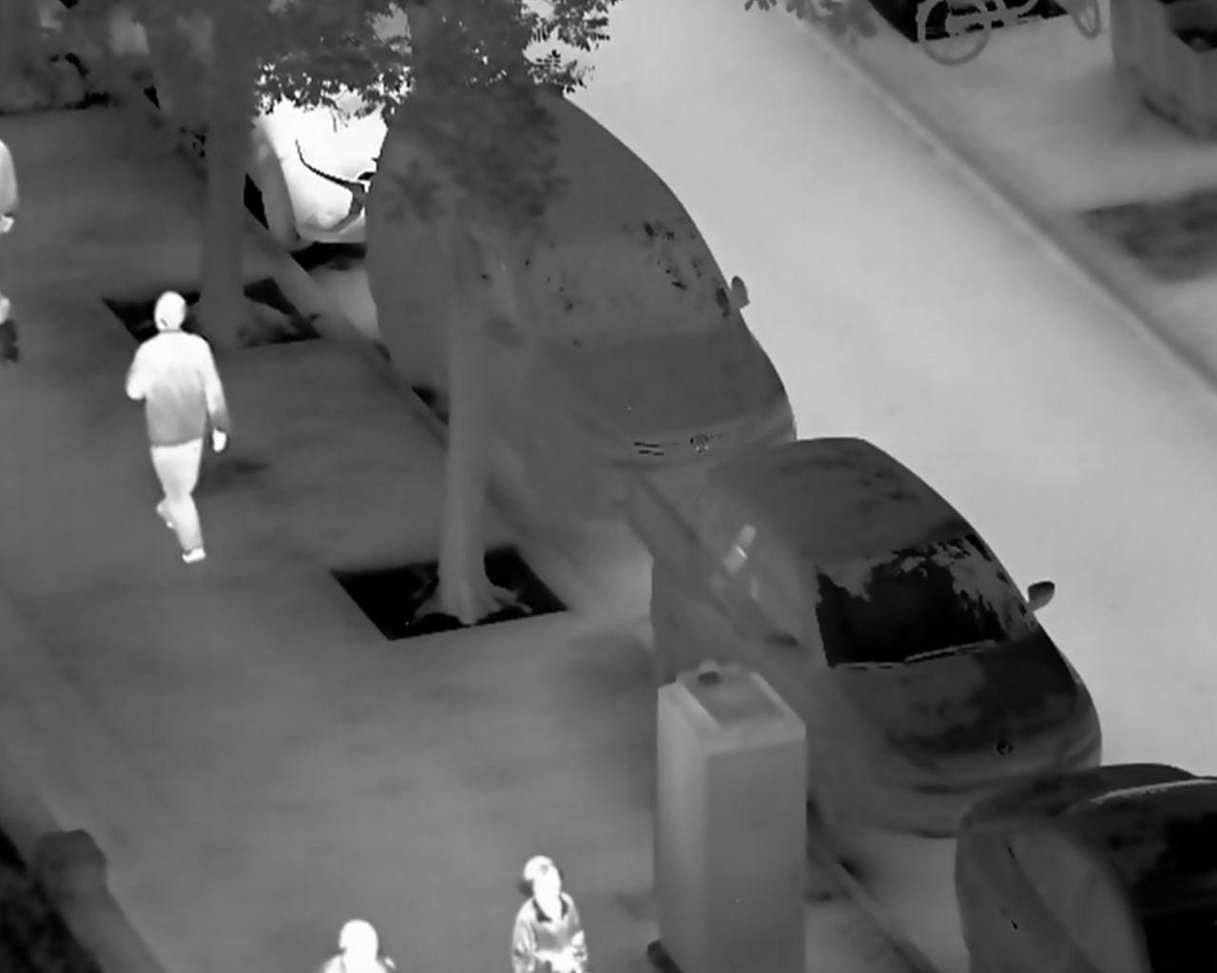person: (119, 285, 234, 568), (501, 844, 599, 973)
